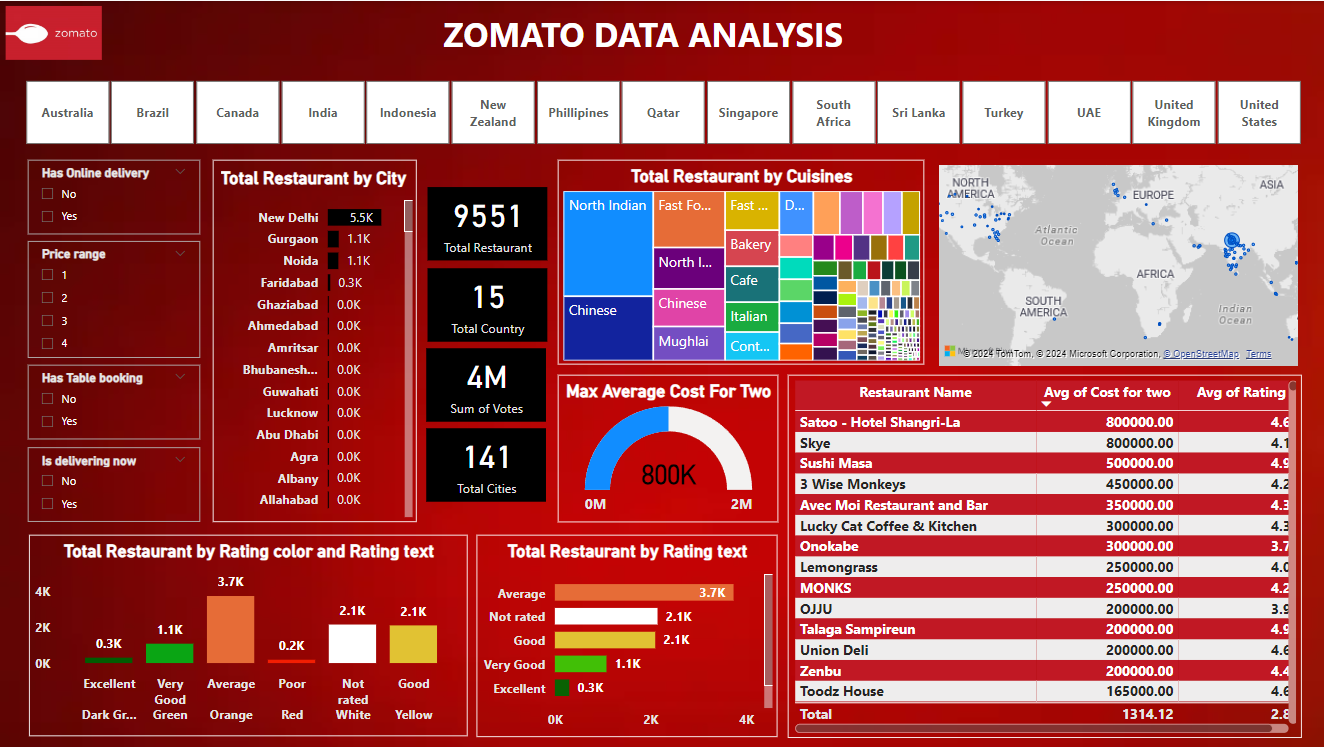

The page's visual inventory and layout, read from the dashboard file:
{"tool":"powerbi","page":{"name":"Page 1","canvas":[1280,720],"ordinal":0},"visuals":[{"type":"slicer","fields":{"Values":["zomato.Country Name"]},"box":[0,70,1280,75],"z":0},{"type":"slicer","fields":{"Values":["zomato.Has Online delivery"]},"box":[28.2,153.5,166.2,71.8],"z":1000},{"type":"slicer","fields":{"Values":["zomato.Is delivering now"]},"box":[28.2,431,166.2,71.8],"z":2000},{"type":"slicer","fields":{"Values":["zomato.Has Table booking"]},"box":[28.2,350.7,166.2,71.8],"z":3000},{"type":"slicer","fields":{"Values":["zomato.Price range"]},"box":[28.2,231,166.2,112.7],"z":4000},{"type":"textbox","box":[403.8,5,435,52.5],"z":5000},{"type":"image","box":[0,0,105.4,62.2],"z":6000},{"type":"card","fields":{"Values":["zomato.Total Restaurant"]},"box":[413.6,179.6,115,70.7],"z":7000},{"type":"card","fields":{"Values":["zomato.Total Country"]},"box":[413.6,257.8,115,70.1],"z":8000},{"type":"card","fields":{"Values":["zomato.Total Cities"]},"box":[412.7,412.7,115.5,70.4],"z":9000},{"type":"card","fields":{"Values":["Sum(zomato.Votes)"]},"box":[412.9,335.4,115,70.7],"z":10000},{"type":"clusteredBarChart","fields":{"Y":["zomato.Total Restaurant"],"Category":["zomato.City"]},"box":[205.6,153.5,197.2,349.3],"z":11000},{"type":"clusteredColumnChart","fields":{"Y":["zomato.Total Restaurant"],"Category":["zomato.Rating color","zomato.Rating text"]},"box":[28.4,514.9,423,194.6],"z":12000},{"type":"clusteredBarChart","fields":{"Y":["zomato.Total Restaurant"],"Category":["zomato.Rating text"]},"box":[461.2,515,290,195],"z":13000},{"type":"tableEx","fields":{"Values":["zomato.Restaurant Name","Avg(zomato.Average Cost for two)","Avg(zomato.Aggregate rating)"]},"box":[761.2,360,496.2,350],"z":14000},{"type":"gauge","title":"Max Average Cost For Two","fields":{"Y":["Max(zomato.Average Cost for two)"]},"box":[538.8,360,212.5,142.5],"z":15000},{"type":"treemap","fields":{"Values":["zomato.Total Restaurant"],"Group":["zomato.Cuisines"]},"box":[538.8,153.8,353.8,197.5],"z":16000},{"type":"map","fields":{"Size":["zomato.Total Restaurant"],"Category":["zomato.City"]},"box":[902.1,153.2,355.8,199],"z":17000}]}

Visuals, with their boxes in screenshot pixels (x1, y1, x2, y2), scaled from the page's 1280x720 canvas onto the 1324x747 screenshot:
slicer - zomato.Country Name: x1=0, y1=73, x2=1323, y2=150
slicer - zomato.Has Online delivery: x1=29, y1=159, x2=201, y2=234
slicer - zomato.Is delivering now: x1=29, y1=447, x2=201, y2=522
slicer - zomato.Has Table booking: x1=29, y1=364, x2=201, y2=438
slicer - zomato.Price range: x1=29, y1=240, x2=201, y2=357
textbox: x1=418, y1=5, x2=868, y2=60
image: x1=0, y1=0, x2=109, y2=65
card - zomato.Total Restaurant: x1=428, y1=186, x2=547, y2=260
card - zomato.Total Country: x1=428, y1=267, x2=547, y2=340
card - zomato.Total Cities: x1=427, y1=428, x2=546, y2=501
card - Sum(zomato.Votes): x1=427, y1=348, x2=546, y2=421
clusteredBarChart - zomato.Total Restaurant x zomato.City: x1=213, y1=159, x2=417, y2=522
clusteredColumnChart - zomato.Total Restaurant x zomato.Rating color: x1=29, y1=534, x2=467, y2=736
clusteredBarChart - zomato.Total Restaurant x zomato.Rating text: x1=477, y1=534, x2=777, y2=737
tableEx - zomato.Restaurant Name x Avg(zomato.Average Cost for two): x1=787, y1=374, x2=1301, y2=737
"Max Average Cost For Two" gauge: x1=557, y1=374, x2=777, y2=521
treemap - zomato.Total Restaurant x zomato.Cuisines: x1=557, y1=160, x2=923, y2=364
map - zomato.Total Restaurant x zomato.City: x1=933, y1=159, x2=1301, y2=365
